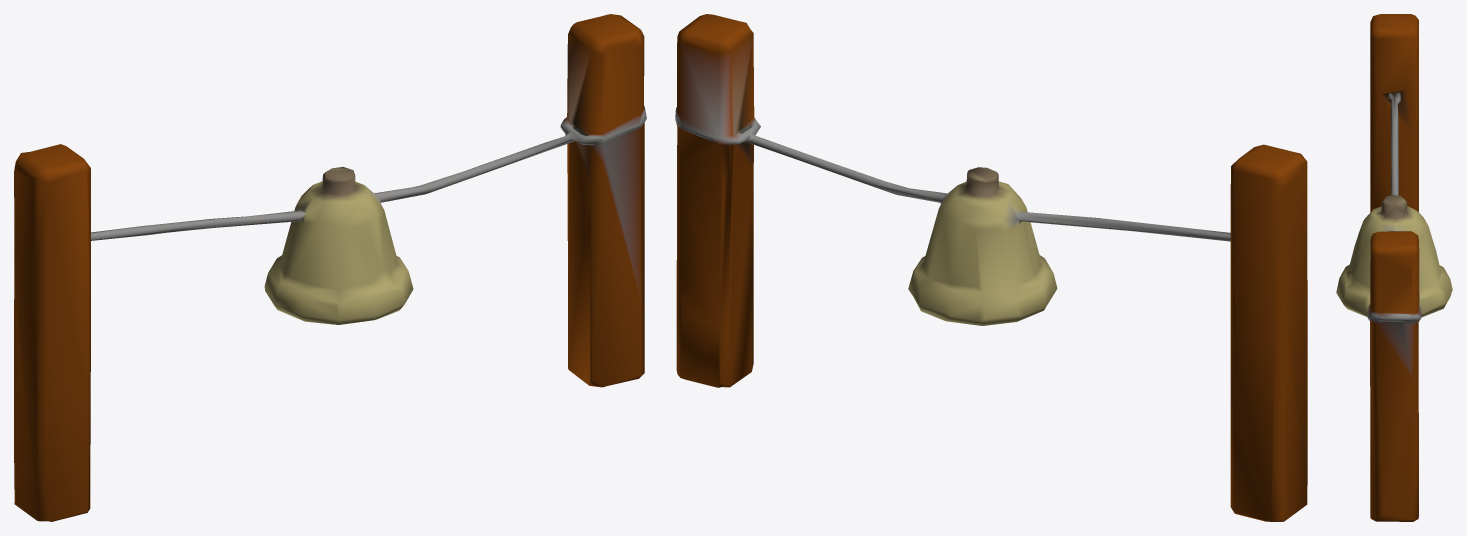
File: gen3d-tripwire-lod1.glb
The picture shows the model from 3 angles, left to right: view 1: azimuth 30°, elevation 25°; view 2: azimuth 150°, elevation 25°; view 3: azimuth 270°, elevation 25°; orthographic projection. The views are drawn at different scales.
Visible parts, largest first — view 1: part_0; view 2: part_0; view 3: part_0.
Boxes of the visible parts, x1=… form: part_0: x1=14, y1=14, x2=646, y2=521; part_0: x1=675, y1=14, x2=1307, y2=521; part_0: x1=1336, y1=14, x2=1452, y2=521.
Bounding box in the file's own units: 1.83 × 0.9995 × 0.3805.
